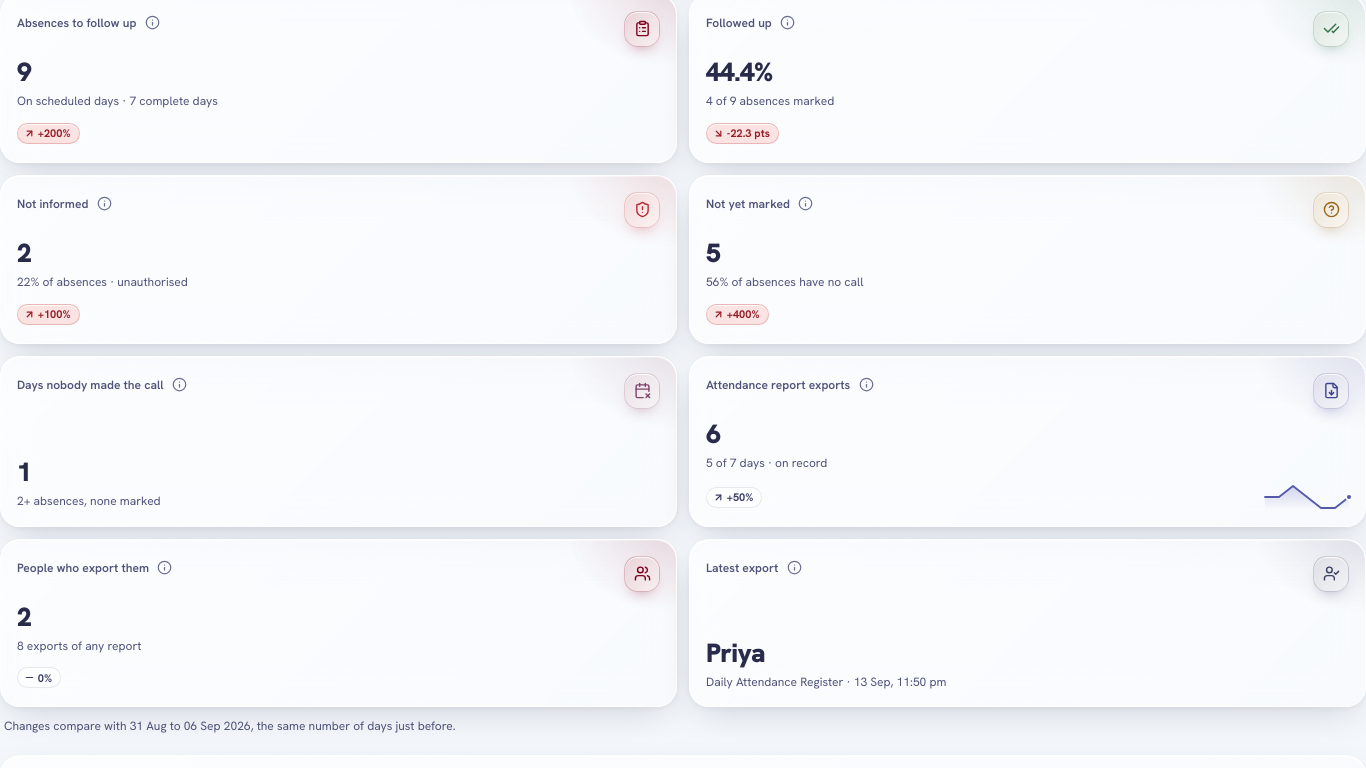
Test case: Report Log insights › explains a figure on request
(page scrolled)
Click the 5th button with test id "provenance-button": [180, 385] box [166, 371, 194, 399]
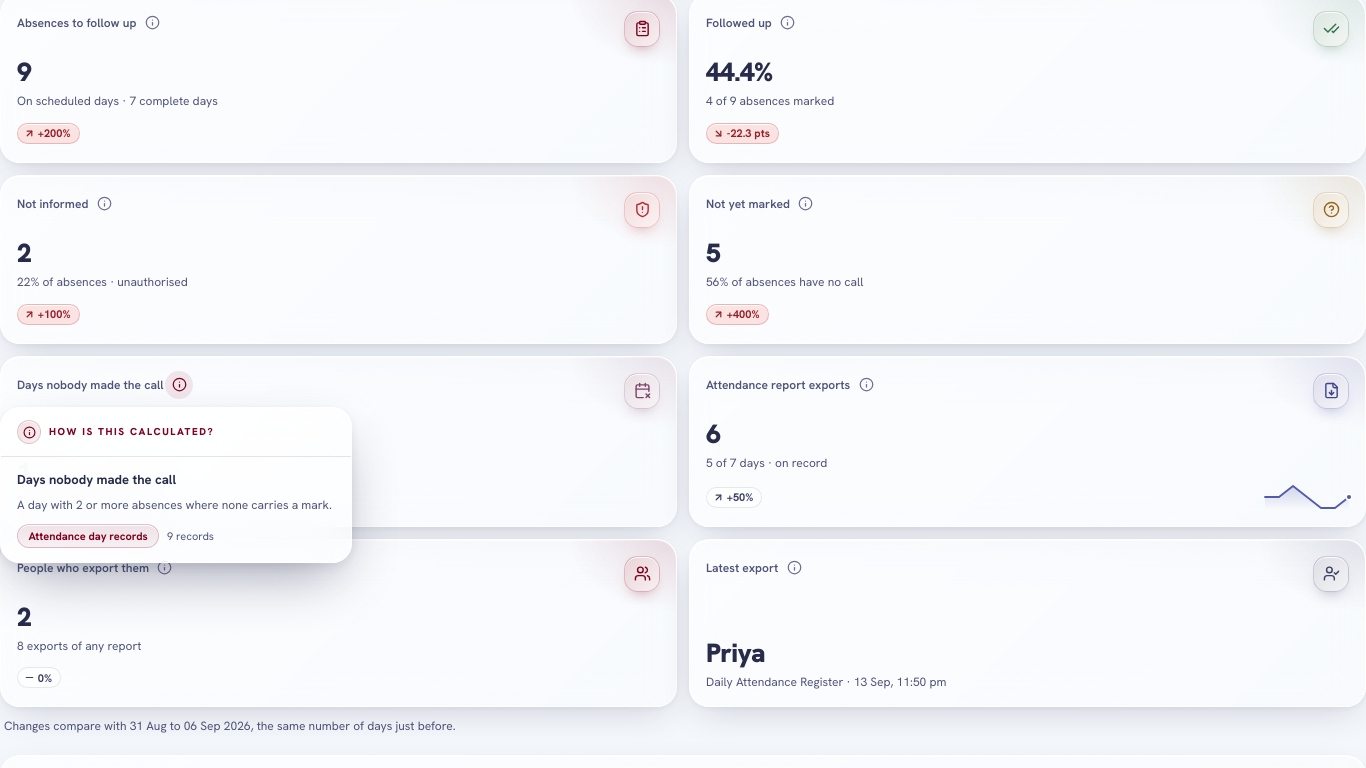
Expected: the text "Days nobody made the call" is shown, [17, 377, 164, 393]
Now the text "A day with 2 or more absences where none carries a mark." is shown, box [17, 496, 335, 516]
